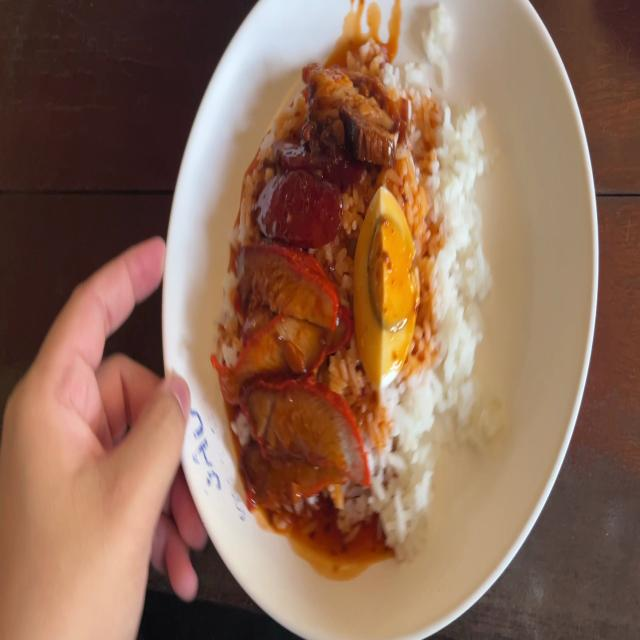red_pork_and_crispy_pork: (356, 187, 417, 391)
stir_fried_basil: (258, 133, 352, 245)
